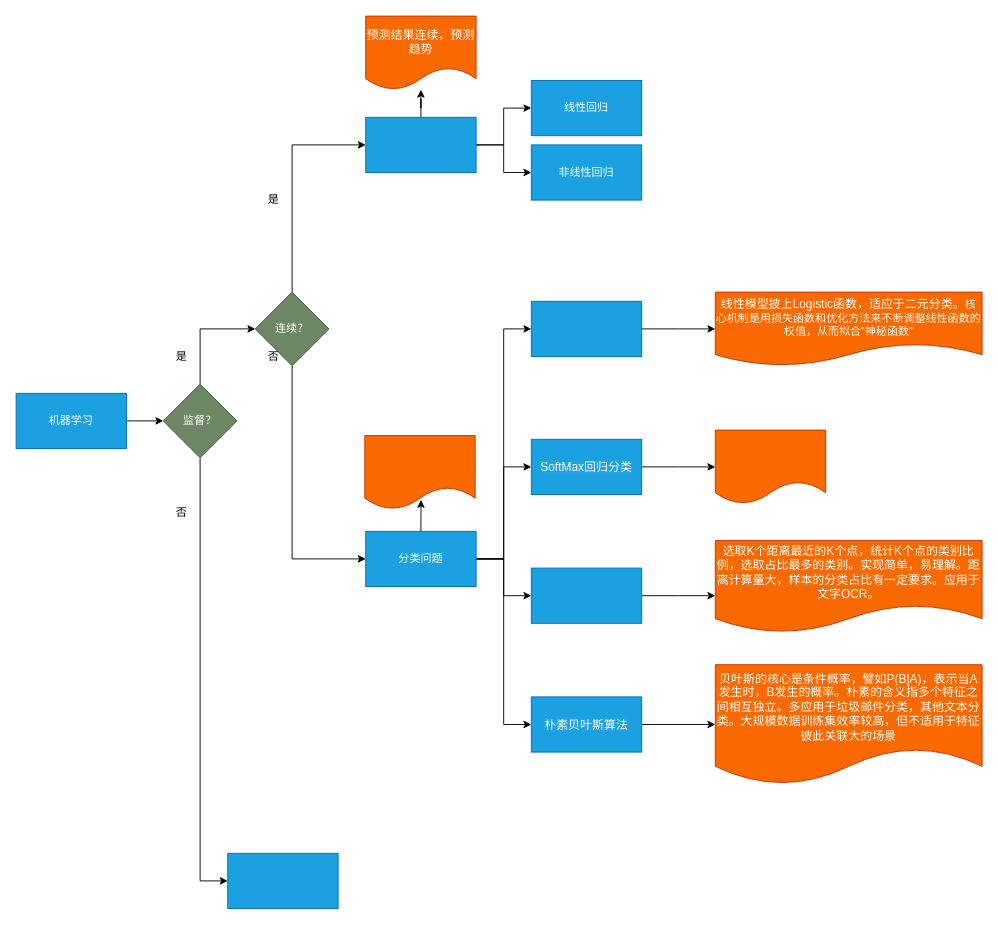
The diagram is 998 pixels wide and 925 high, and some of its shapes have lost their labels. Here are the shapes that lost their labels. From the top down, the box of each, then its label:
(365, 116, 476, 172): 回归问题
(530, 300, 642, 356): Logistic回归分类
(364, 435, 475, 509): 预测结果离散，预测属于哪个类别
(714, 429, 826, 504): 多元分类
(530, 567, 642, 623): KNN分类(K个最近邻)
(227, 852, 338, 908): 聚类问题
